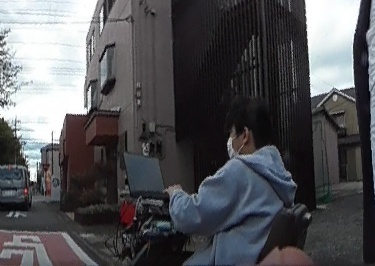person: (164, 93, 301, 266)
